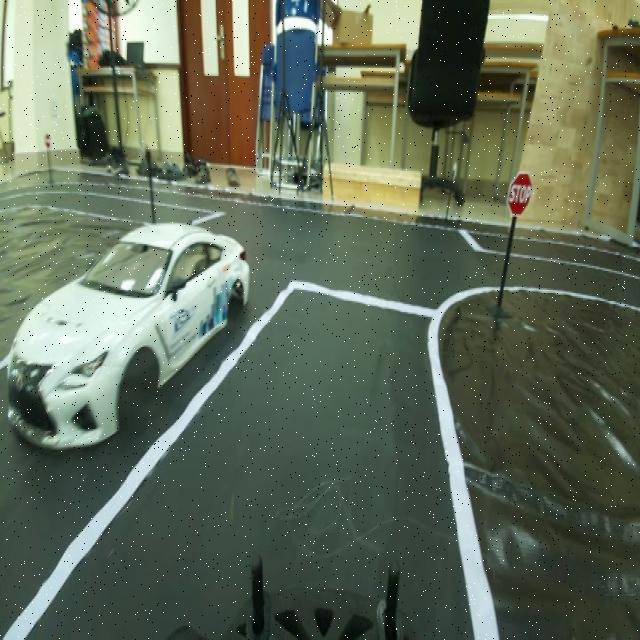stop: (12, 214, 248, 445), (506, 165, 535, 229)
